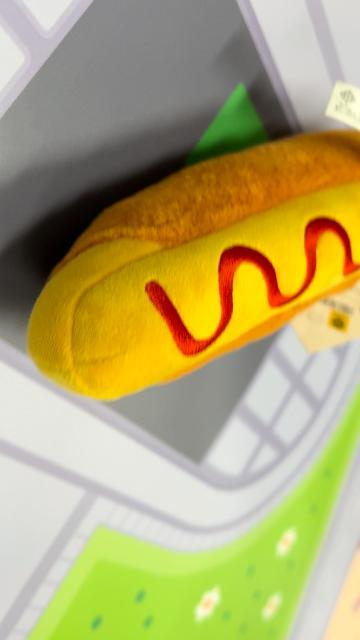hotdog: (25, 128, 358, 404)
